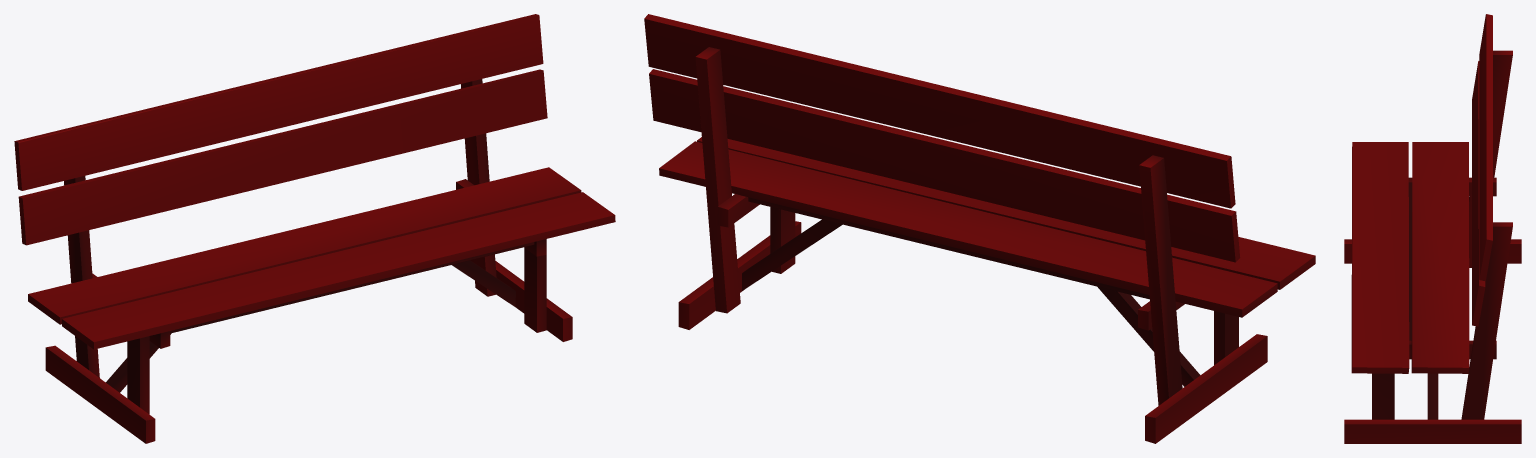
Rendered from WoodenBenchSimple.glb.
The picture shows the model from 3 angles, left to right: view 1: azimuth 30°, elevation 25°; view 2: azimuth 150°, elevation 25°; view 3: azimuth 270°, elevation 25°; orthographic projection. The views are drawn at different scales.
Parts seen in each view (by area): view 1: WoodenBenchSimple; view 2: WoodenBenchSimple; view 3: WoodenBenchSimple.
Part boxes in pixels (bbox=[...]): WoodenBenchSimple: bbox=[14, 14, 615, 443]; WoodenBenchSimple: bbox=[644, 14, 1315, 443]; WoodenBenchSimple: bbox=[1344, 14, 1521, 443].
Bounding box in the file's own units: 10.69 × 4.99 × 3.56.
